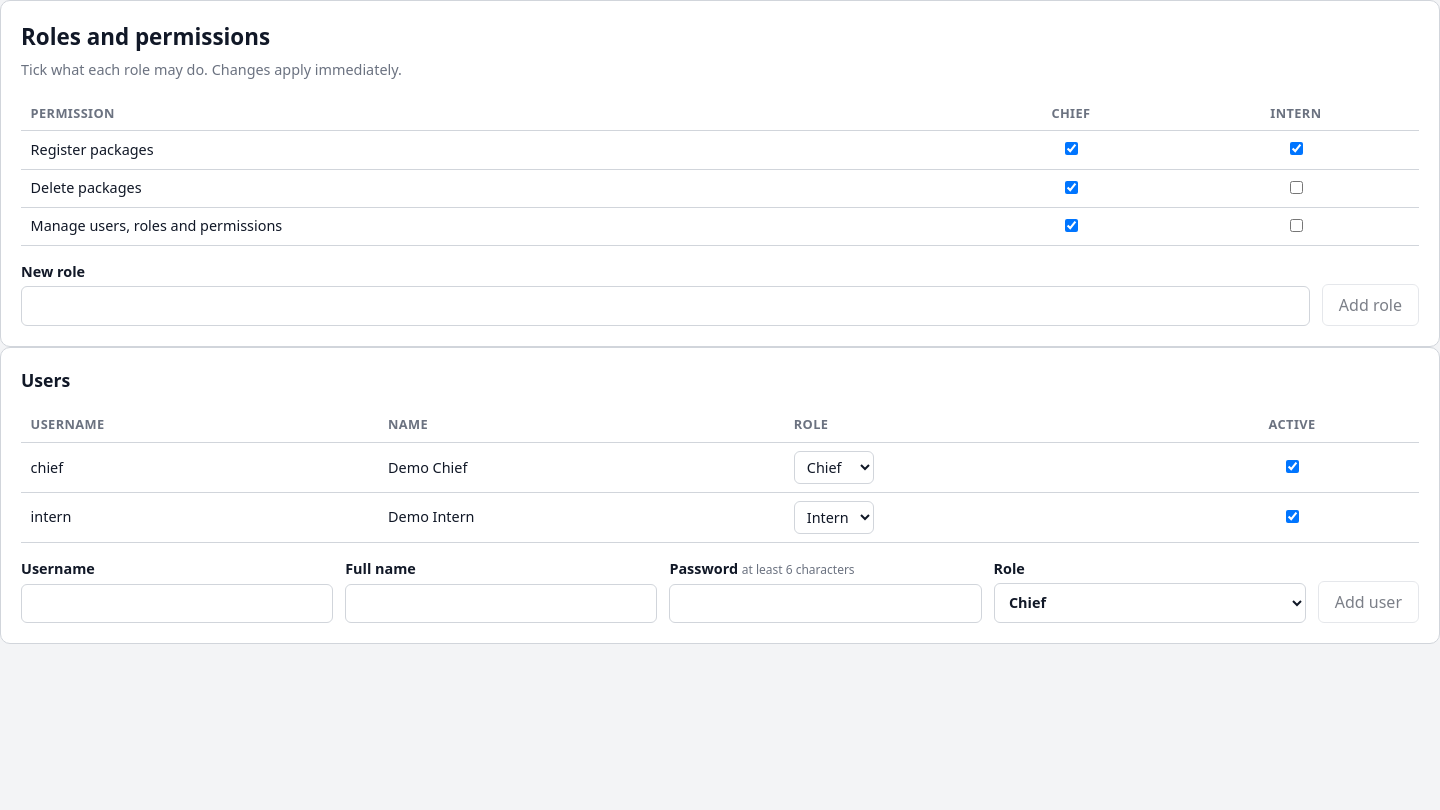
Test: a refused change shows the reason and leaves the box as it was
The width and height of the screenshot is (1440, 810).
Expected: the checkbox named "Intern: Delete packages" is shown, [1290,181,1303,194]
Step 1. Click the checkbox named "Chief: Manage users, roles and permissions" → (1071, 225), box [1065,219,1078,232]
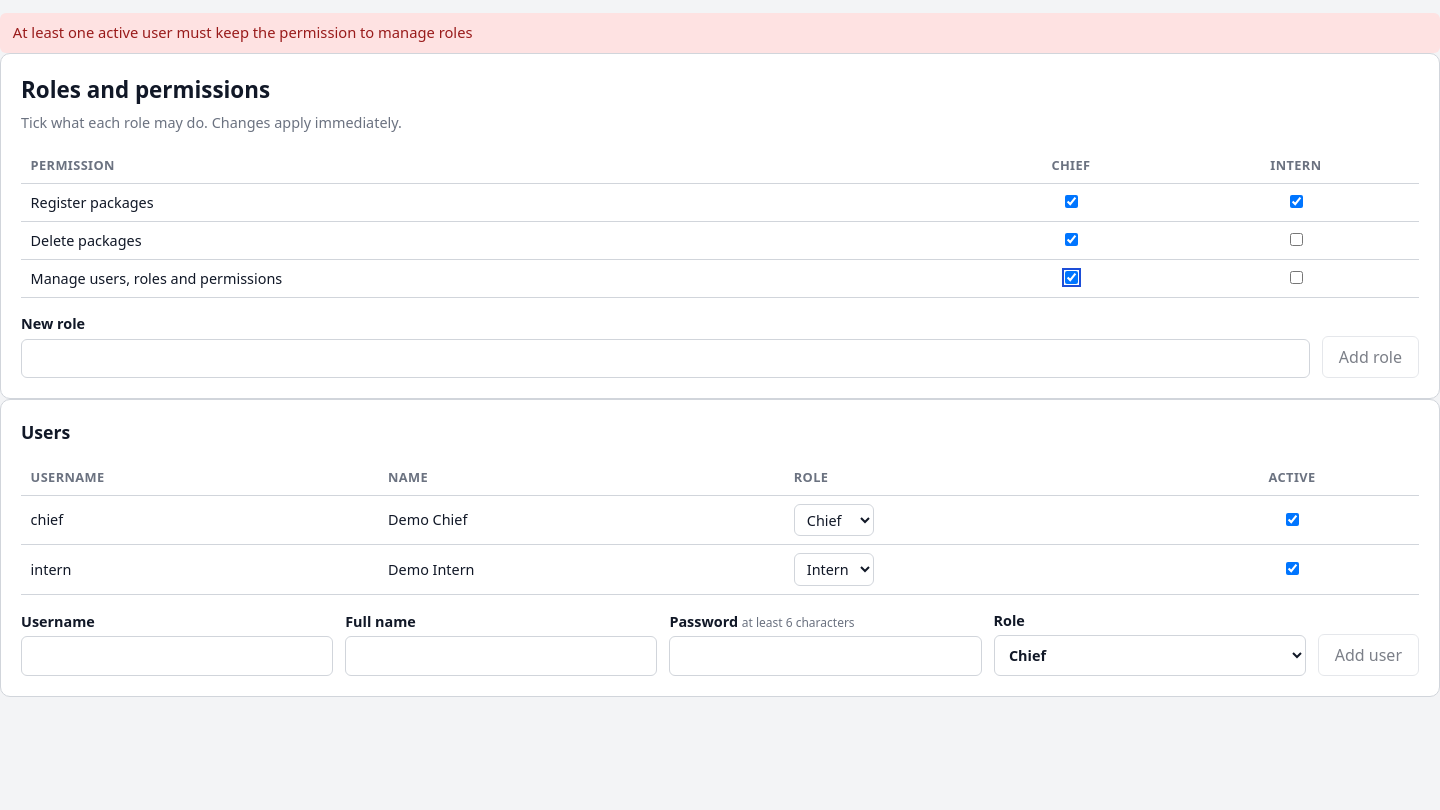
Expected: the checkbox named "Chief: Manage users, roles and permissions" is checked, [1065,271,1078,284]
Expected: the message shows "At least one active user", [13,22,472,42]
